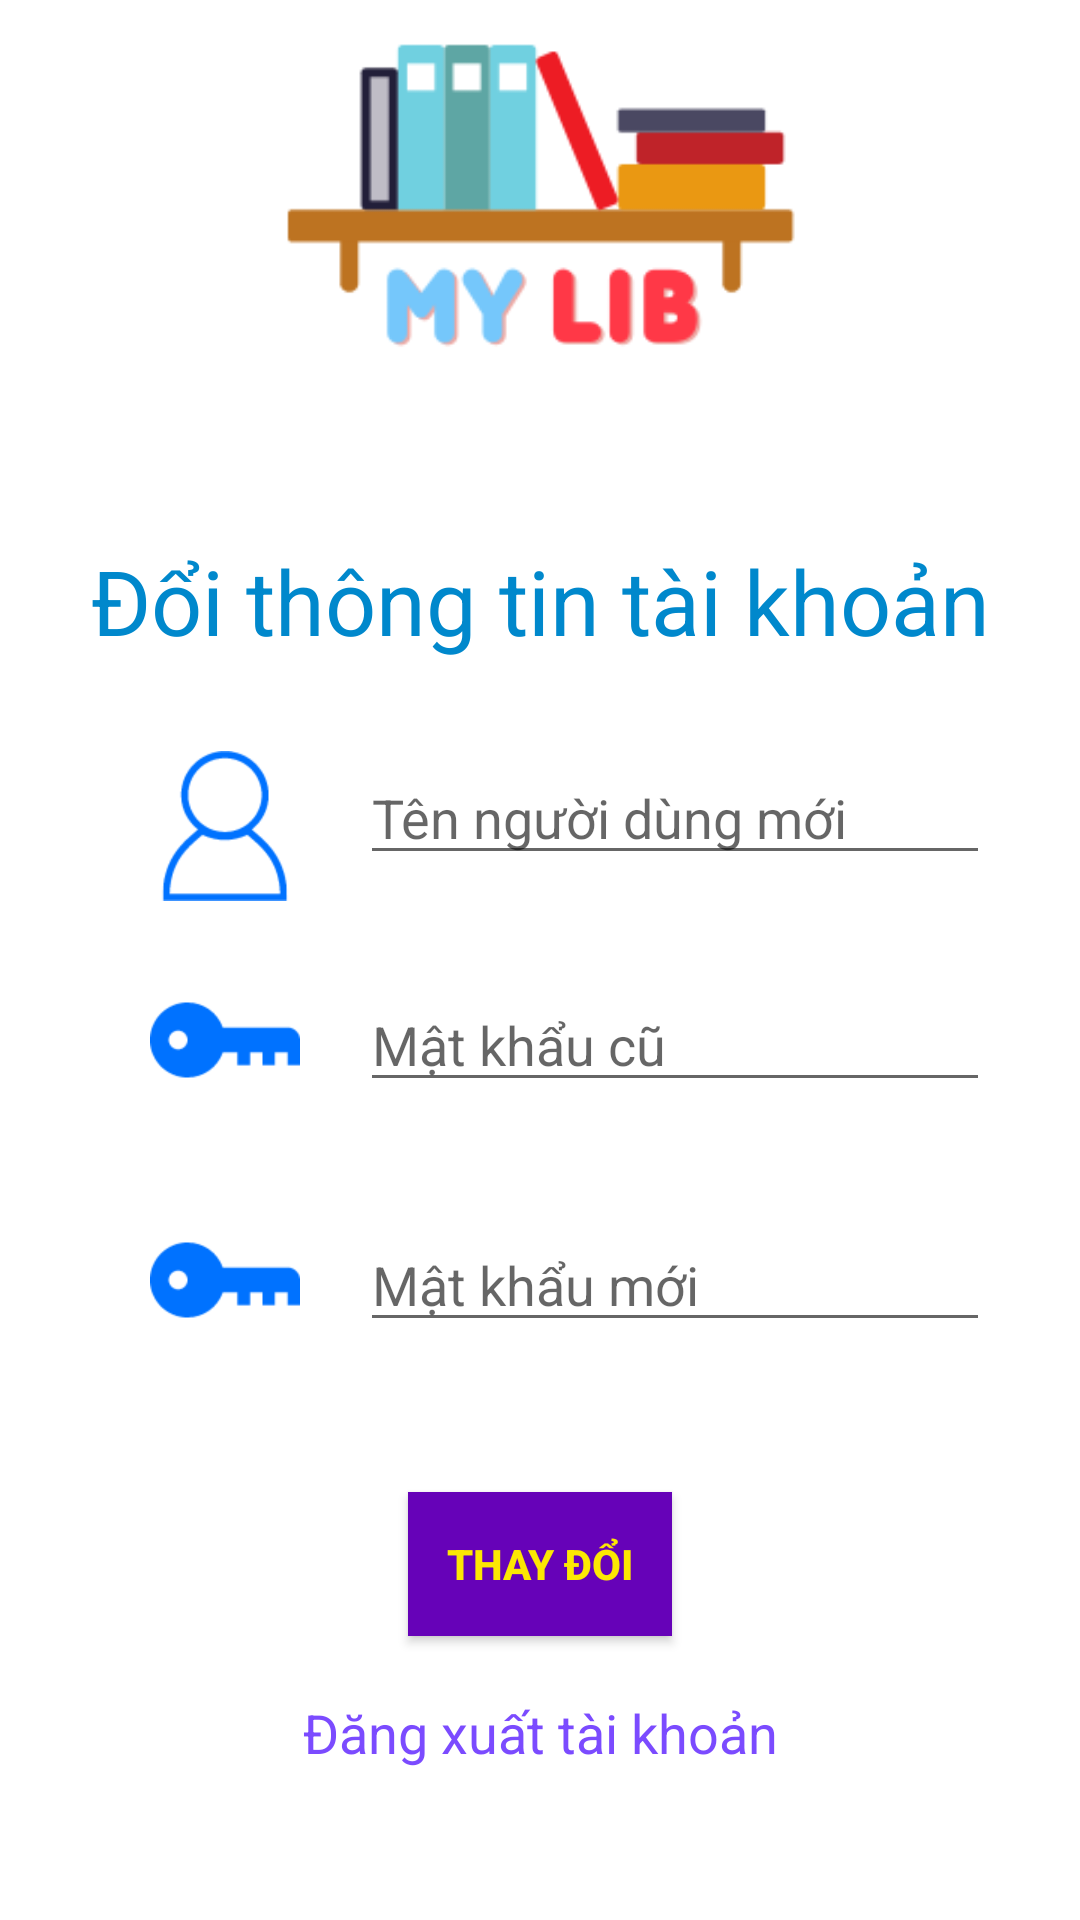

Icon bounding boxes for this 1080 x 1920 phone screenshot, format box=[x1, y1, x2, y2]:
password: box=[150, 1002, 300, 1078], box=[150, 1242, 300, 1318]
user: box=[162, 751, 287, 901]
